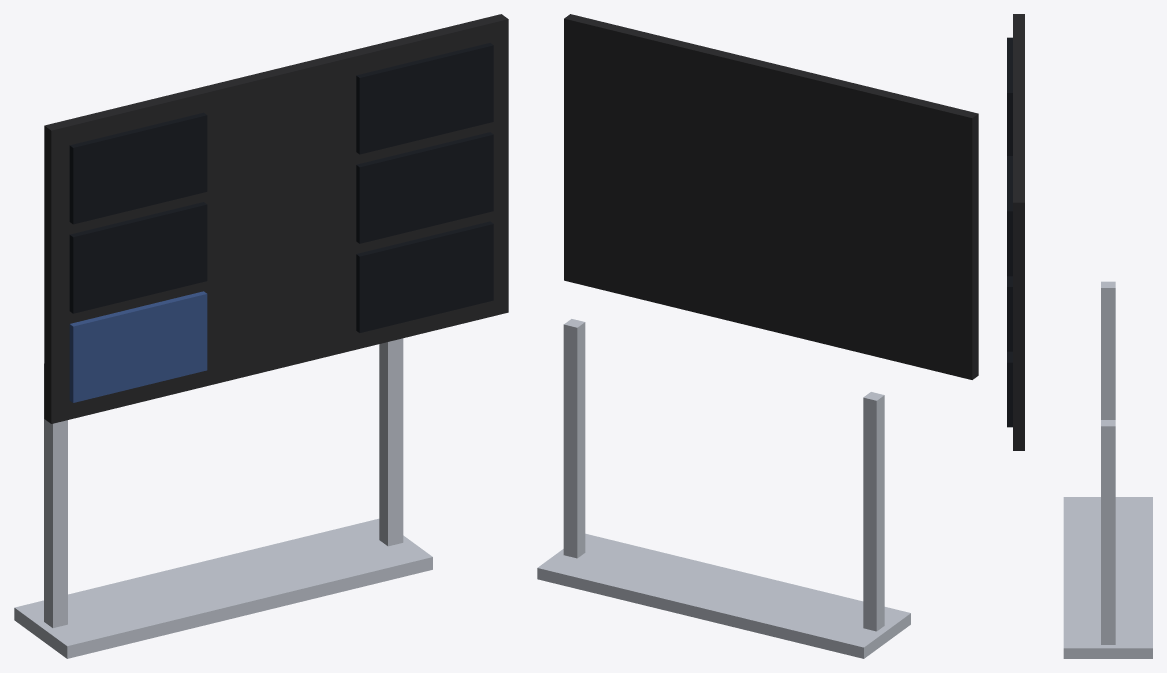
File: welt_monitorwand.glb
3 views of the same model, side by side, from view 1: azimuth 30°, elevation 25°; view 2: azimuth 150°, elevation 25°; view 3: azimuth 270°, elevation 25° (orthographic). The views are drawn at different scales.
Parts seen in each view (by area): view 1: rueckwand, standfuss, panel_0, panel_2, panel_4, panel_1, panel_3, panel_5, stuetze_r, stuetze_l; view 2: rueckwand, standfuss, stuetze_r, stuetze_l; view 3: standfuss, rueckwand, stuetze_r, stuetze_l, panel_1, panel_0, panel_5, panel_3.
Boxes of the visible parts, x1=… form: rueckwand: x1=44, y1=14, x2=508, y2=423; standfuss: x1=14, y1=518, x2=432, y2=658; panel_0: x1=69, y1=112, x2=207, y2=224; panel_2: x1=69, y1=202, x2=207, y2=313; panel_4: x1=69, y1=291, x2=207, y2=402; panel_1: x1=356, y1=43, x2=493, y2=154; panel_3: x1=356, y1=132, x2=493, y2=243; panel_5: x1=356, y1=221, x2=493, y2=332; stuetze_r: x1=379, y1=338, x2=403, y2=546; stuetze_l: x1=44, y1=363, x2=67, y2=627; rueckwand: x1=564, y1=14, x2=978, y2=379; standfuss: x1=537, y1=533, x2=910, y2=658; stuetze_r: x1=563, y1=319, x2=585, y2=558; stuetze_l: x1=863, y1=392, x2=884, y2=631; standfuss: x1=1063, y1=497, x2=1152, y2=658; rueckwand: x1=1013, y1=14, x2=1024, y2=450; stuetze_r: x1=1101, y1=420, x2=1115, y2=644; stuetze_l: x1=1101, y1=281, x2=1115, y2=419; panel_1: x1=1007, y1=156, x2=1012, y2=276; panel_0: x1=1007, y1=37, x2=1012, y2=155; panel_5: x1=1007, y1=351, x2=1012, y2=427; panel_3: x1=1007, y1=276, x2=1012, y2=351.
Bounding box in the file's own units: 1.5 × 1.76 × 0.49.
